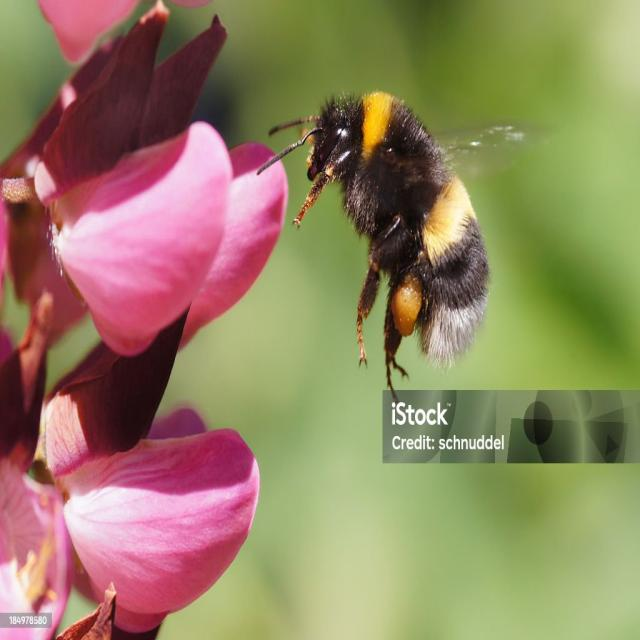bee: (257, 89, 563, 402)
